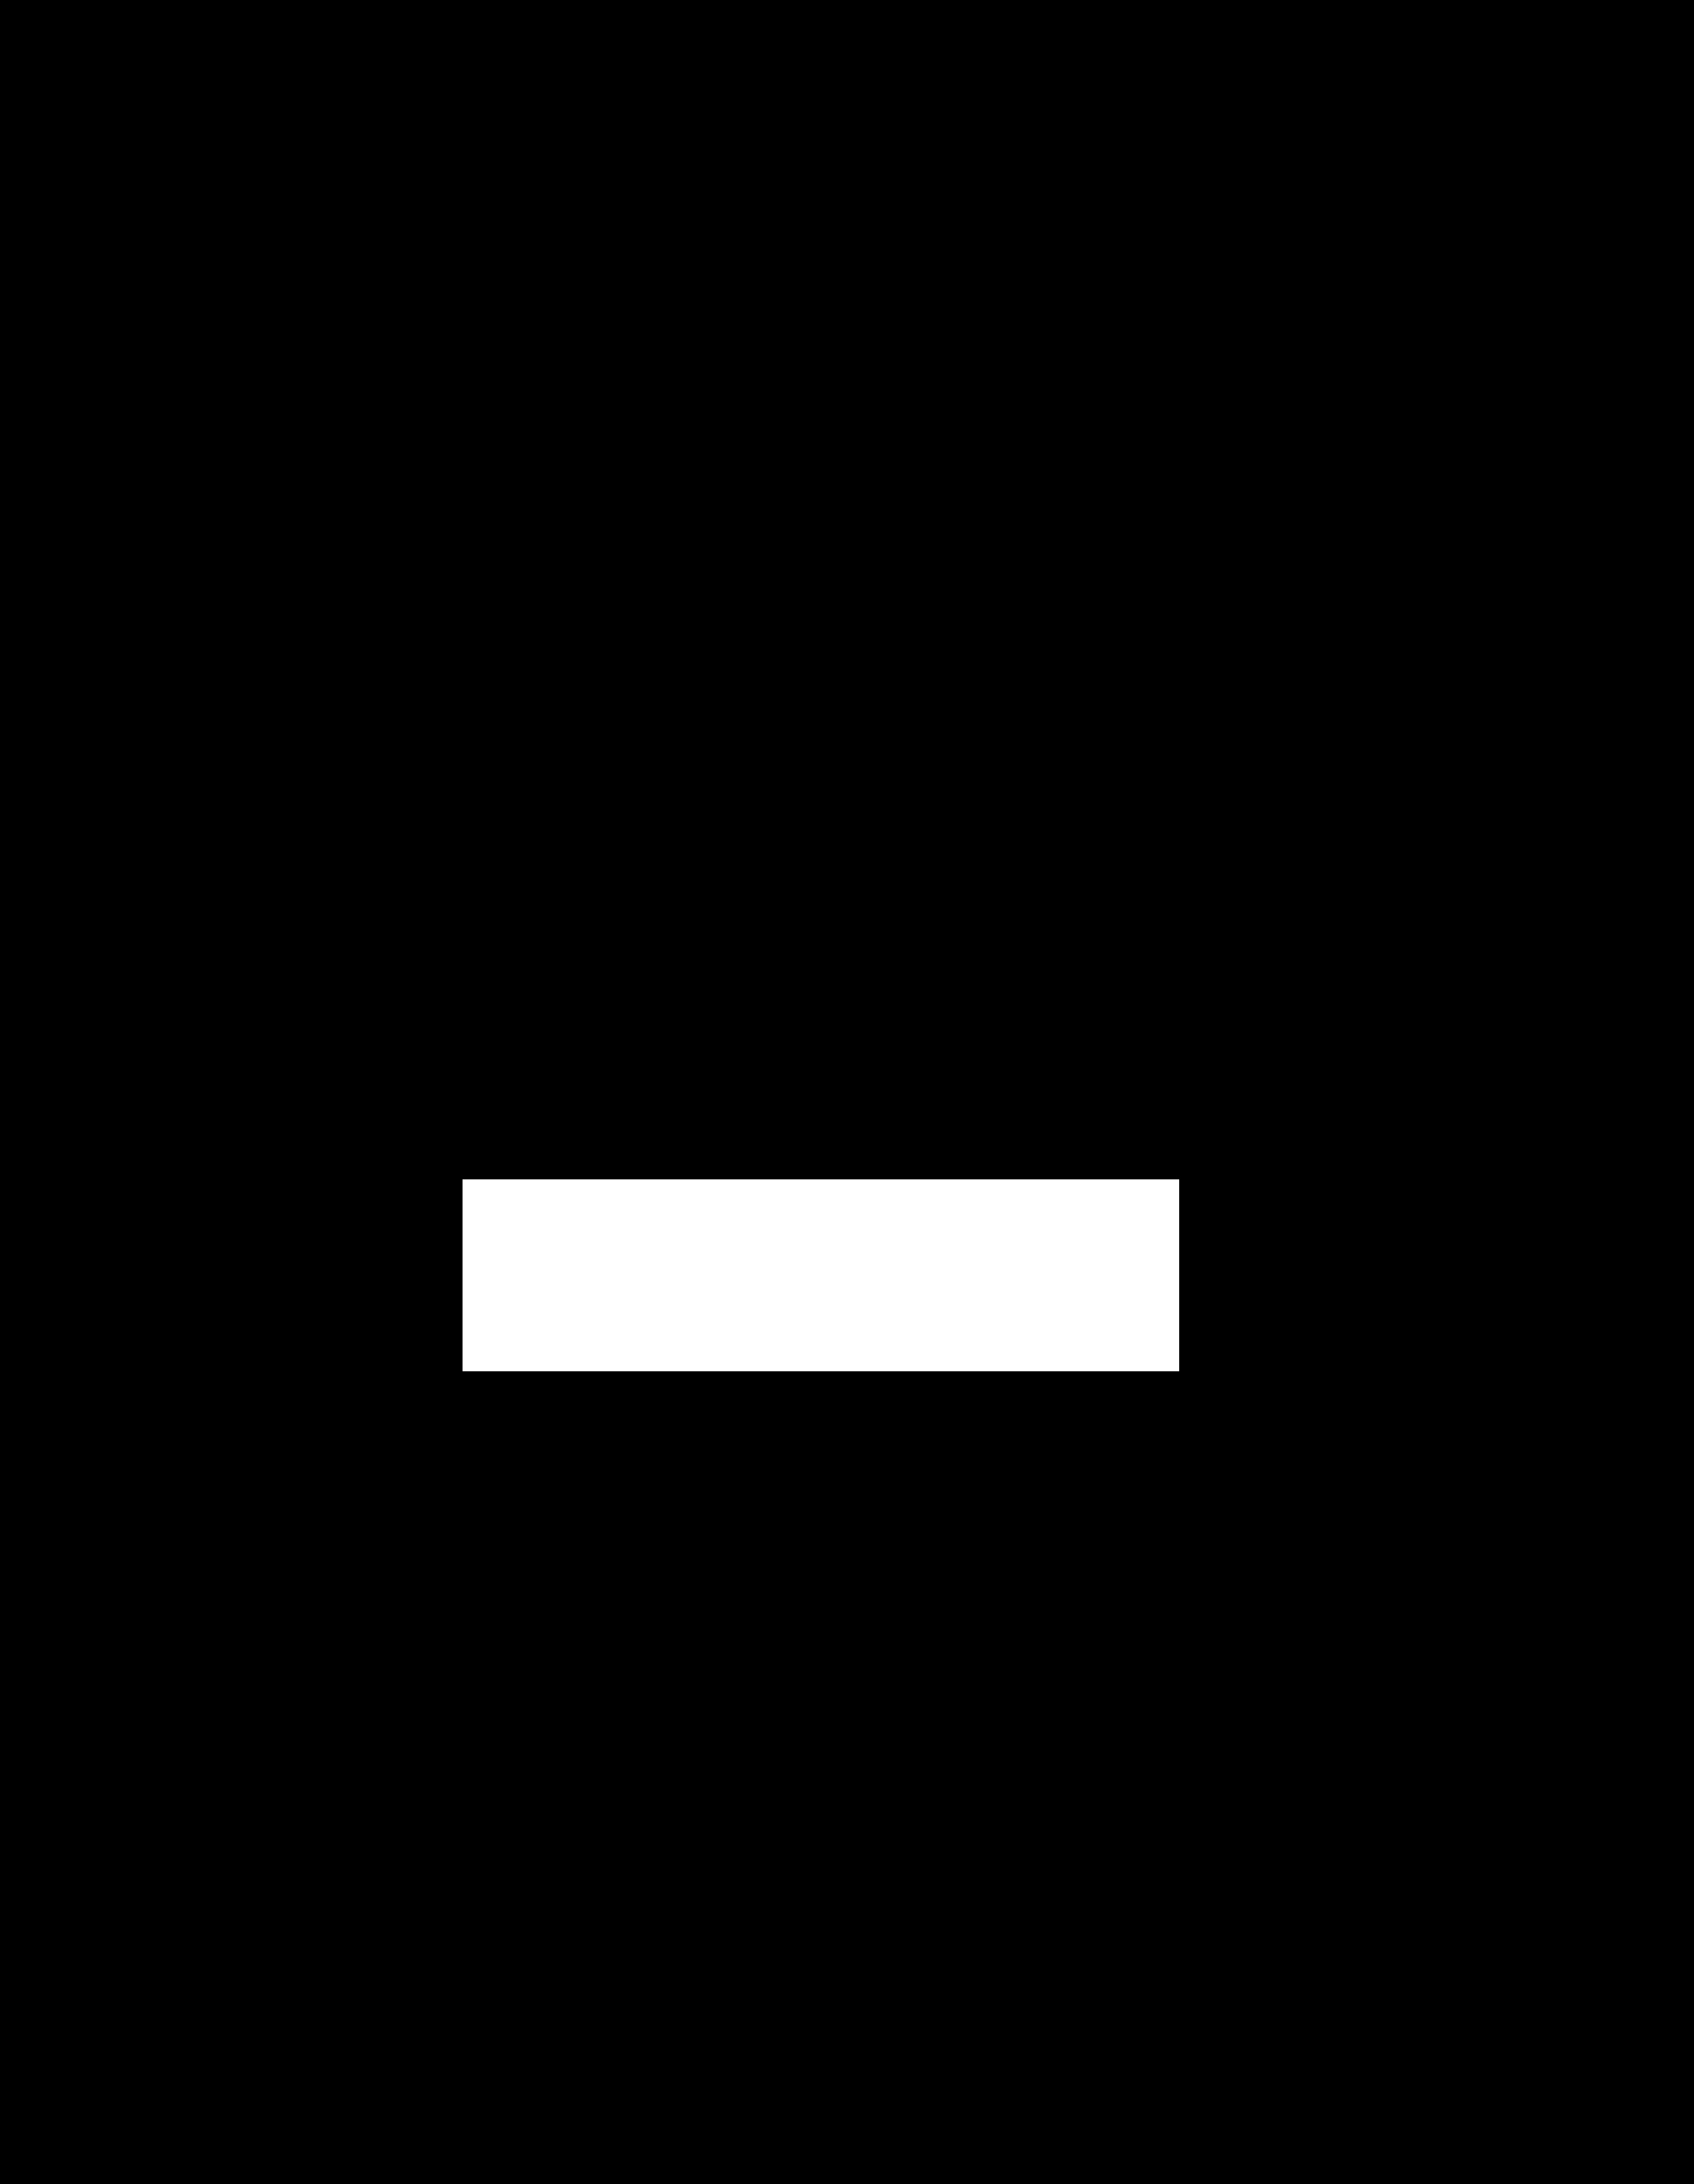table: (462, 1179, 1178, 1370)
